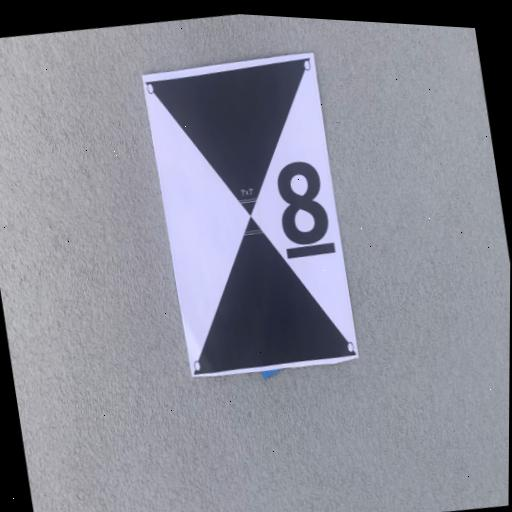target8: (142, 55, 358, 377)
